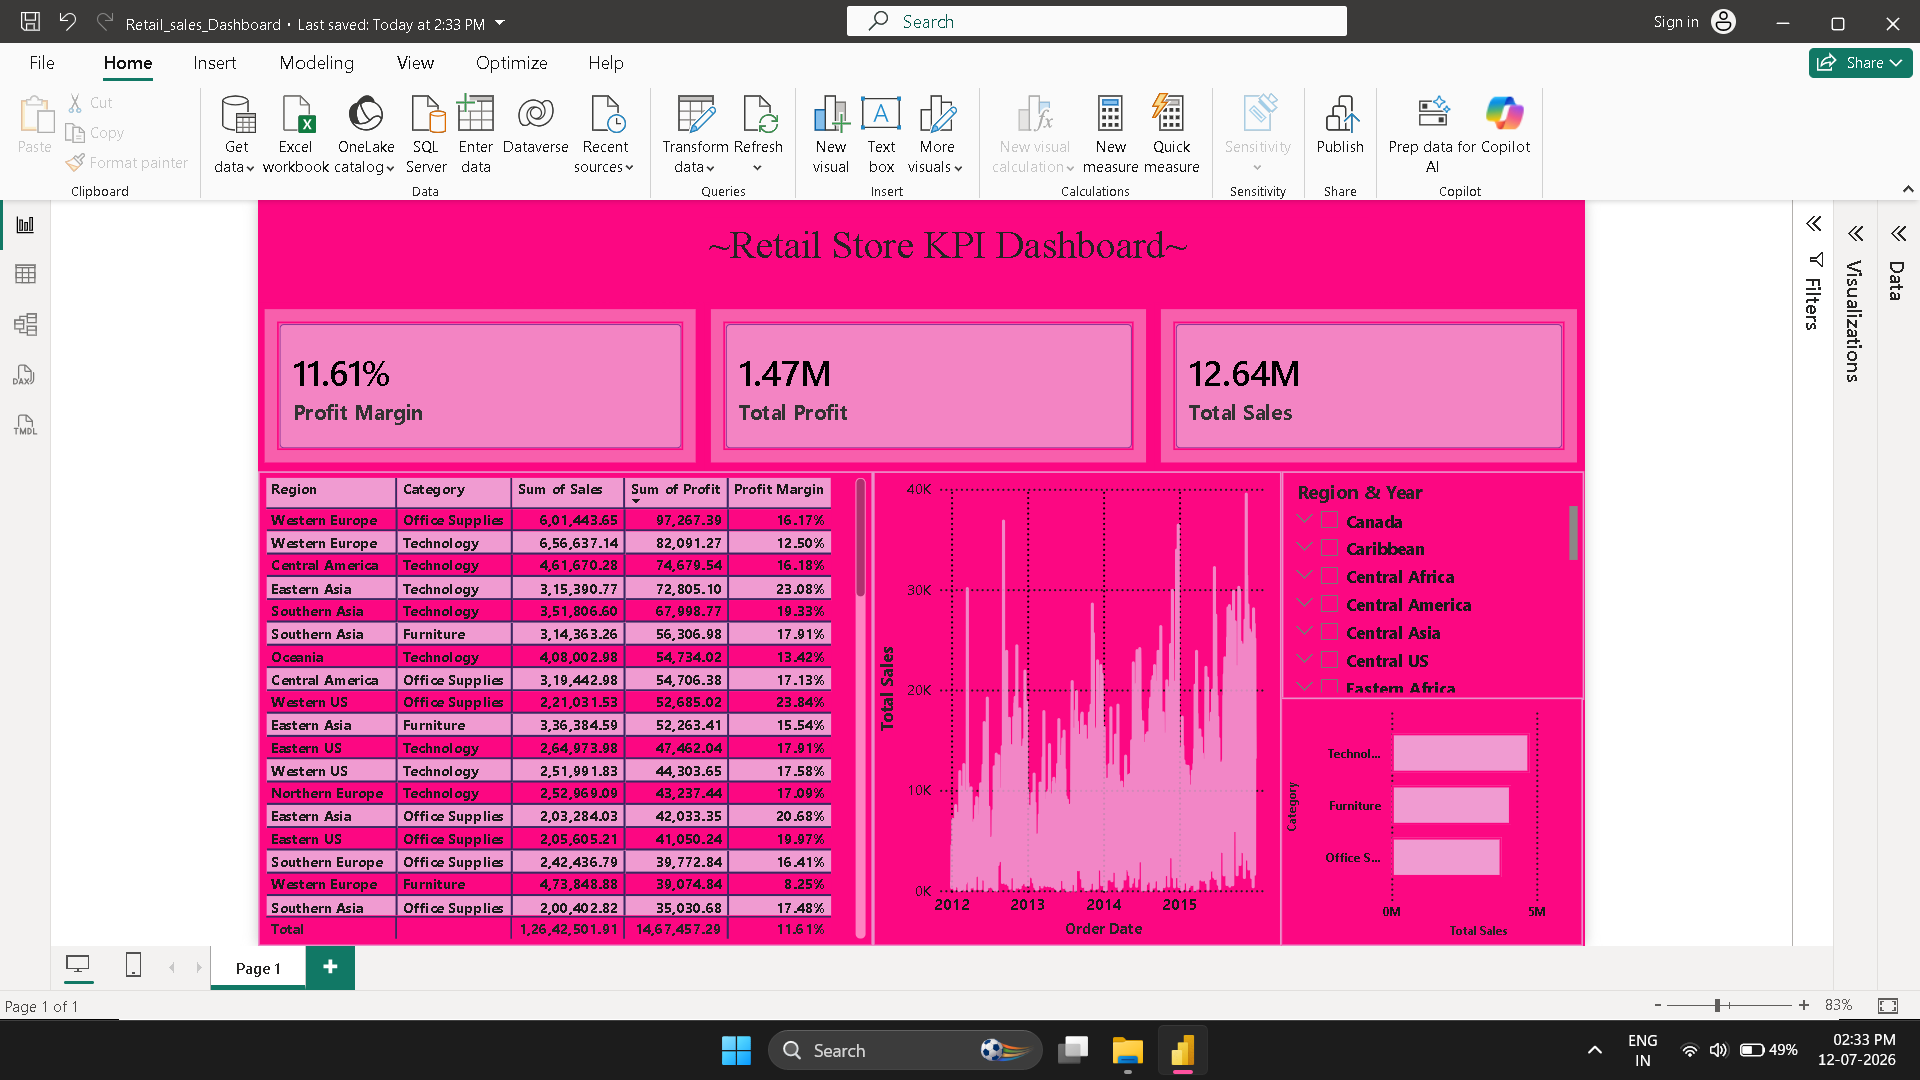

What the dashboard file says about the page in this screenshot:
{"tool":"powerbi","page":{"name":"Page 1","canvas":[1280,720],"ordinal":0},"visuals":[{"type":"cardVisual","fields":{"Data":["Orders.Total Sales"]},"box":[865,98.9,415,162.9],"z":0},{"type":"cardVisual","fields":{"Data":["Orders.Total Profit"]},"box":[430.7,98.9,434.3,162.9],"z":1000},{"type":"cardVisual","fields":{"Data":["Orders.Profit Margin"]},"box":[0,98.9,430.7,162.9],"z":2000},{"type":"slicer","fields":{"Values":["Orders.Region","Orders.Year"]},"box":[988.1,261.8,292,220.8],"z":3000},{"type":"clusteredBarChart","fields":{"Category":["Orders.Category"],"Y":["Orders.Total Sales"]},"box":[986.9,480.2,292,240.1],"z":4000},{"type":"tableEx","fields":{"Values":["Orders.Region","Orders.Category","Sum(Orders.Sales)","Sum(Orders.Profit)","Orders.Profit Margin"]},"box":[0,261.8,593.6,458.4],"z":5000},{"type":"lineChart","fields":{"Y":["Orders.Total Sales"],"Category":["Orders.Order Date"]},"box":[593.6,261.8,394.5,458.4],"z":6000},{"type":"textbox","box":[430.7,16.9,641.8,82],"z":7000}]}

Visuals, with their boxes on the page's 1280x720 design canvas (x1, y1, x2, y2). These are canvas units, not pixel positions in the 1920x1080 screenshot, which may show the page scaled, cropped or inside an application window:
cardVisual - Orders.Total Sales: bbox=[865, 99, 1280, 262]
cardVisual - Orders.Total Profit: bbox=[431, 99, 865, 262]
cardVisual - Orders.Profit Margin: bbox=[0, 99, 431, 262]
slicer - Orders.Region x Orders.Year: bbox=[988, 262, 1280, 483]
clusteredBarChart - Orders.Category x Orders.Total Sales: bbox=[987, 480, 1279, 720]
tableEx - Orders.Region x Orders.Category: bbox=[0, 262, 594, 720]
lineChart - Orders.Total Sales x Orders.Order Date: bbox=[594, 262, 988, 720]
textbox: bbox=[431, 17, 1072, 99]
